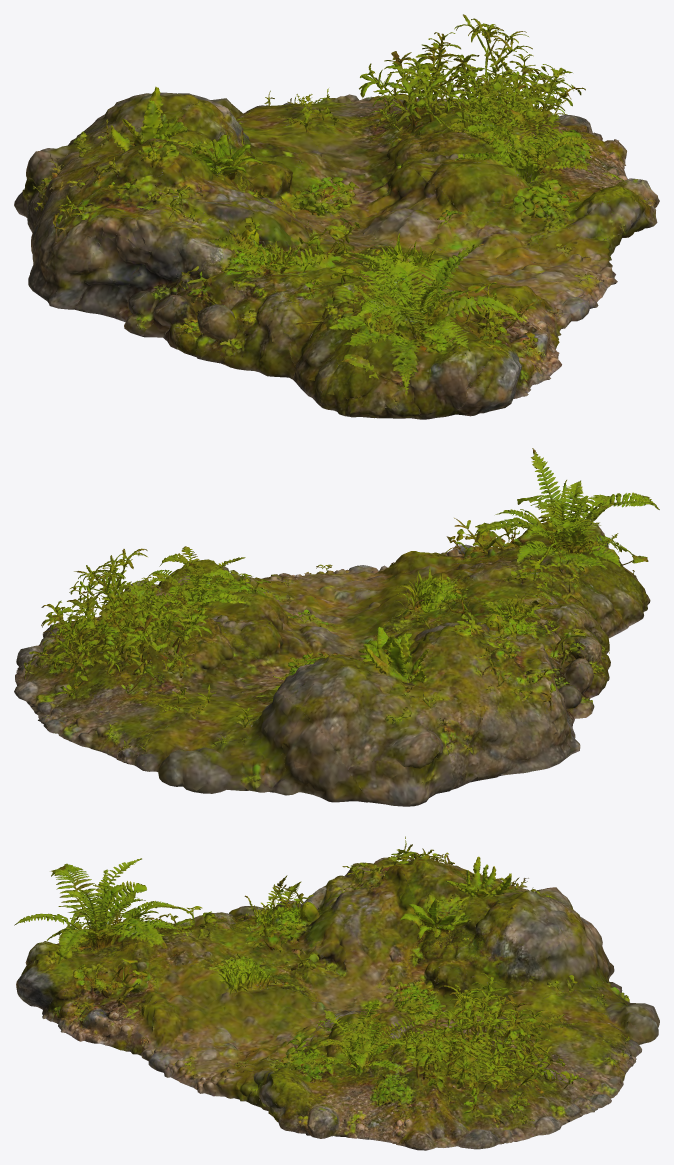
The model's file is ground_ecosystem_2k.glb.
The picture shows the model from 3 angles, top to bottom: view 1: azimuth 30°, elevation 25°; view 2: azimuth 150°, elevation 25°; view 3: azimuth 270°, elevation 25°; orthographic projection. The views are drawn at different scales.
Parts seen in each view (by area): view 1: Mesh_0; view 2: Mesh_0; view 3: Mesh_0.
Boxes of the visible parts, x1=… form: Mesh_0: x1=14, y1=14, x2=659, y2=419; Mesh_0: x1=14, y1=448, x2=659, y2=806; Mesh_0: x1=14, y1=836, x2=659, y2=1150.
Size of the model in its own units: 1.69 by 0.394 by 1.9.
1 material, 1 textured.
